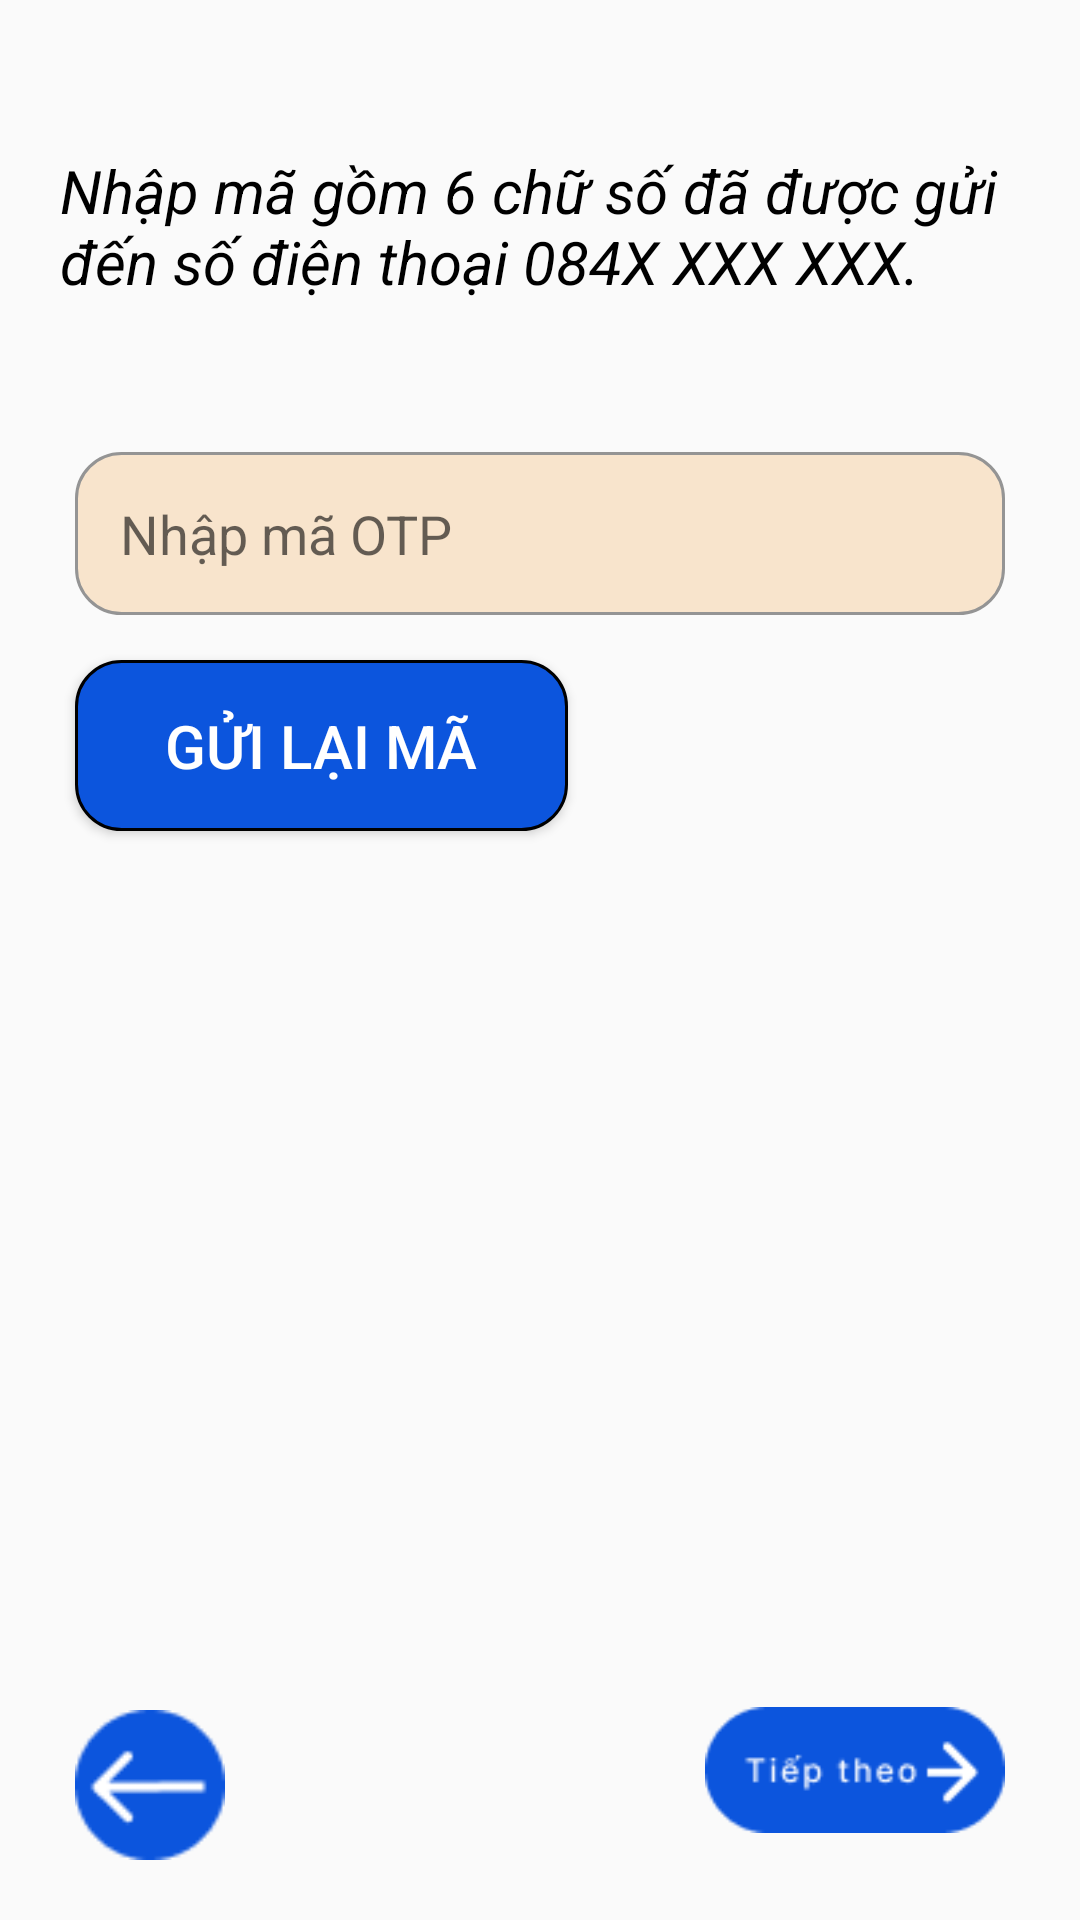

Icons on this 1080×1920 Android screen, each with its box as bbox=[x1, y1, x2, y2]:
back: bbox=[75, 1710, 225, 1860]
